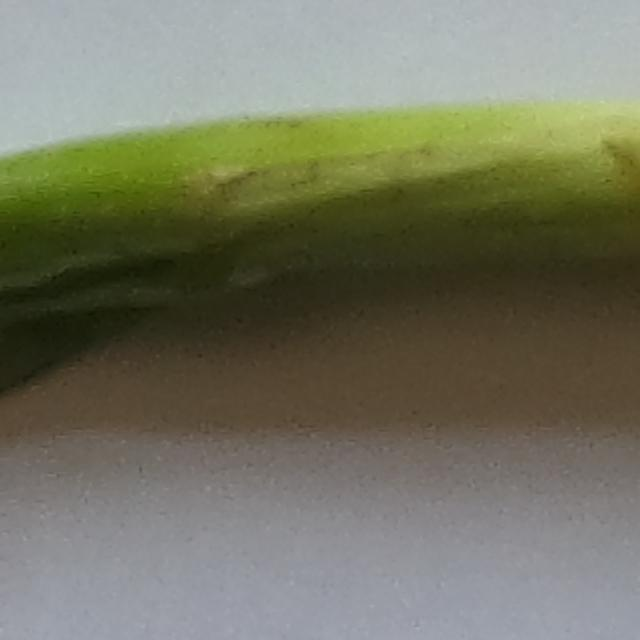green_onion: (0, 102, 640, 400)
